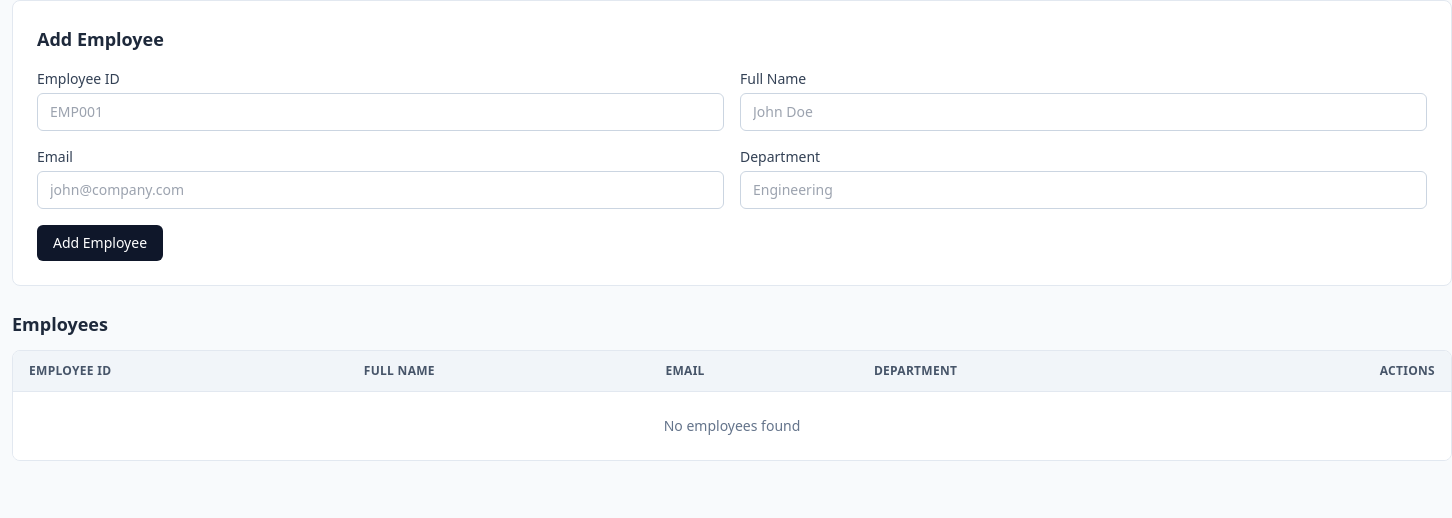
EmployeePage › shows validation errors for empty form submission
Expected: the text "No employees found" is shown, [13, 392, 1451, 460]
Click the button "Add Employee". click: {"x": 100, "y": 243}
box: [37, 225, 163, 261]
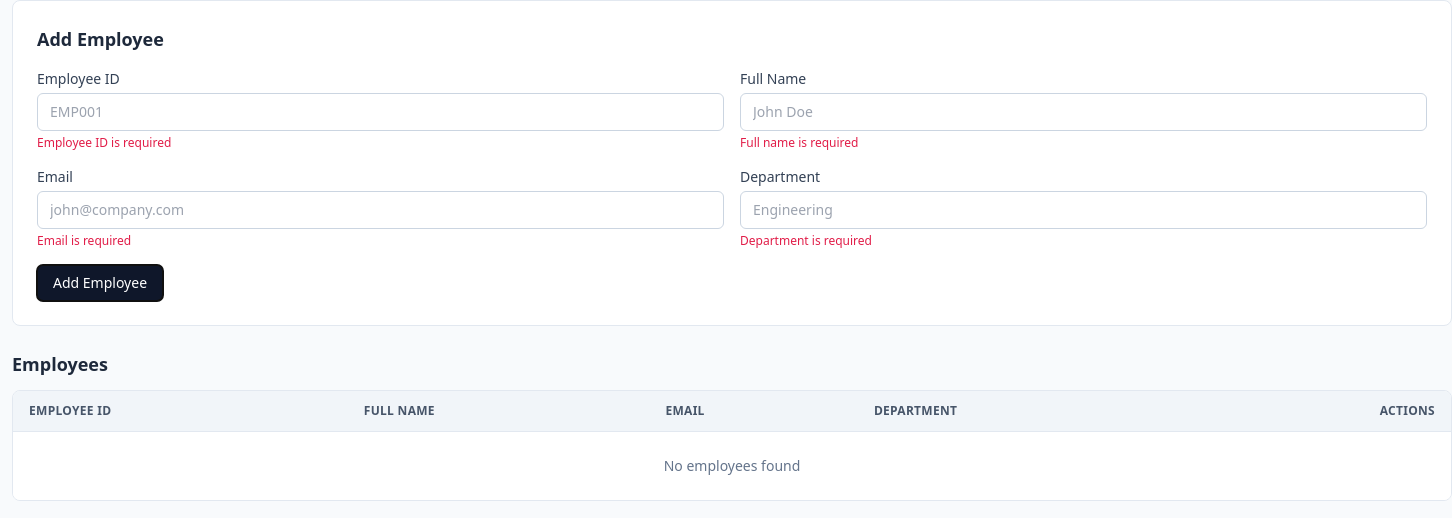
Now the text "Employee ID is required" is shown, box [37, 134, 171, 151]
Now the text "Full name is required" is shown, box [740, 134, 858, 151]
Now the text "Email is required" is shown, box [37, 232, 131, 249]
